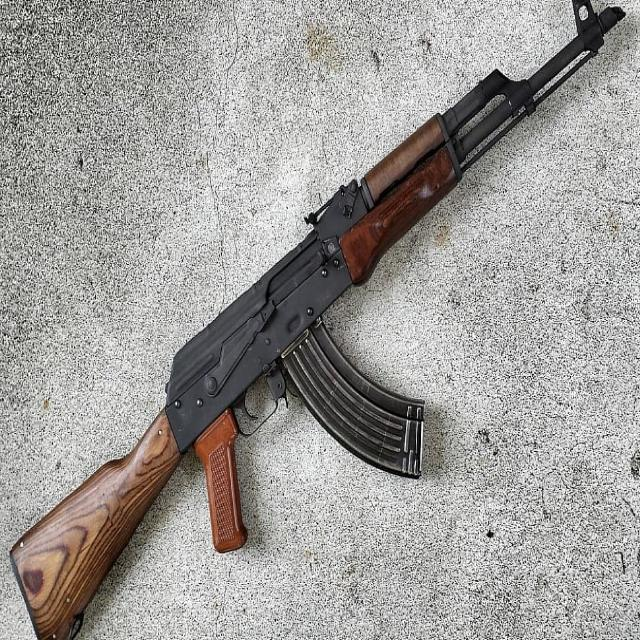firearm: (11, 1, 626, 640)
